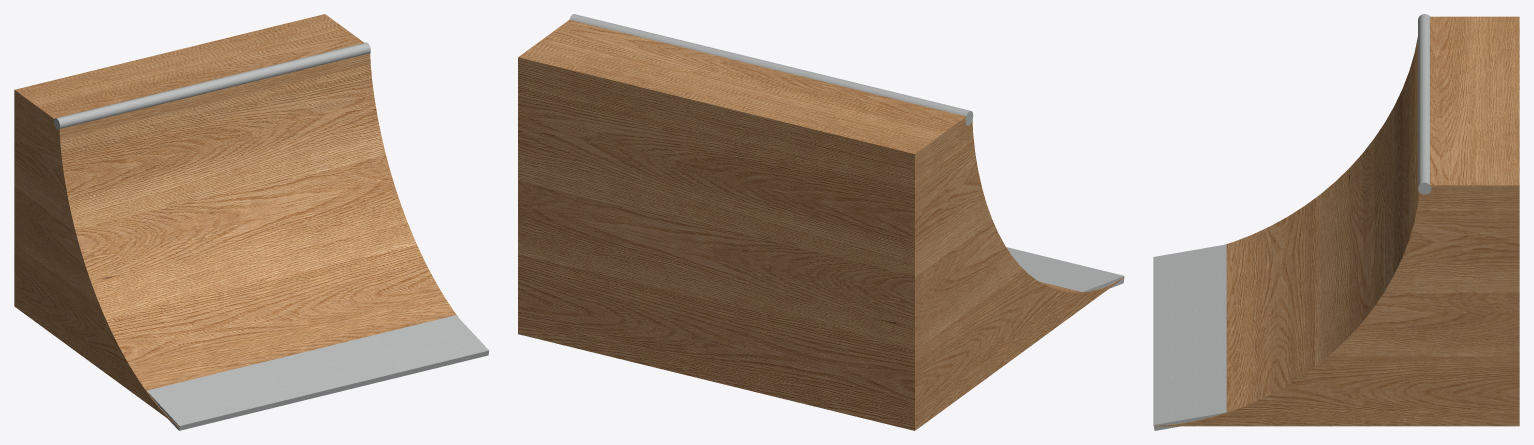
The model's file is MediumRamp.fbx.
The picture shows the model from 3 angles, left to right: view 1: azimuth 30°, elevation 25°; view 2: azimuth 150°, elevation 25°; view 3: azimuth 270°, elevation 25°; orthographic projection. The views are drawn at different scales.
Visible parts, largest first — view 1: Cube, Cube.001, Cylinder; view 2: Cube, Cylinder, Cube.001; view 3: Cube, Cube.001, Cylinder.
Part boxes in pixels (x1,y1,x2,y2): Cube: (14, 14, 457, 426); Cube.001: (147, 315, 489, 430); Cylinder: (54, 42, 370, 129); Cube: (518, 19, 1124, 430); Cylinder: (569, 14, 973, 125); Cube.001: (1006, 247, 1124, 291); Cube: (1154, 16, 1519, 426); Cube.001: (1153, 244, 1226, 430); Cylinder: (1418, 14, 1431, 194).
Bounding box in the file's own units: 300 × 206 × 275.
Materials: 2 (2 with a texture image).
